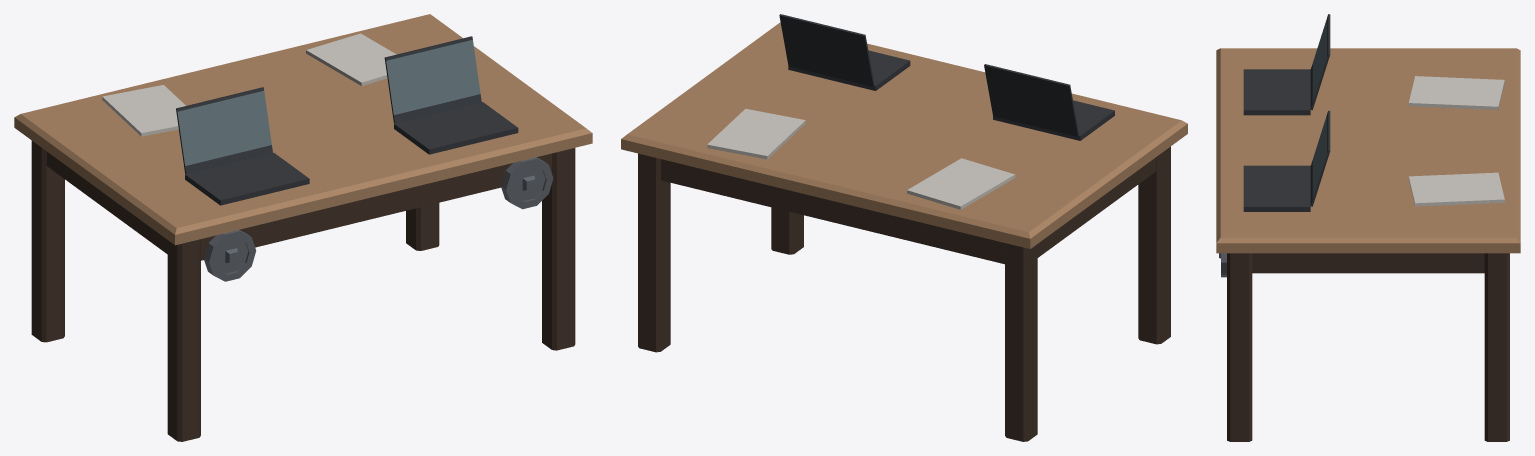
Rendered from seminar-table-3c1cf6.glb.
The picture shows the model from 3 angles, left to right: view 1: azimuth 30°, elevation 25°; view 2: azimuth 150°, elevation 25°; view 3: azimuth 270°, elevation 25°; orthographic projection. The views are drawn at different scales.
Visible parts, largest first — view 1: table, dressing-mesh; view 2: table, dressing-mesh; view 3: table, dressing-mesh.
Boxes of the visible parts, <box> form: table: <box>14,14,592,441</box>; dressing-mesh: <box>102,33,518,205</box>; table: <box>621,22,1187,441</box>; dressing-mesh: <box>707,14,1114,209</box>; table: <box>1216,48,1520,441</box>; dressing-mesh: <box>1243,14,1504,211</box>.
Size of the model in its own units: 1.5 by 0.9699 by 1.
